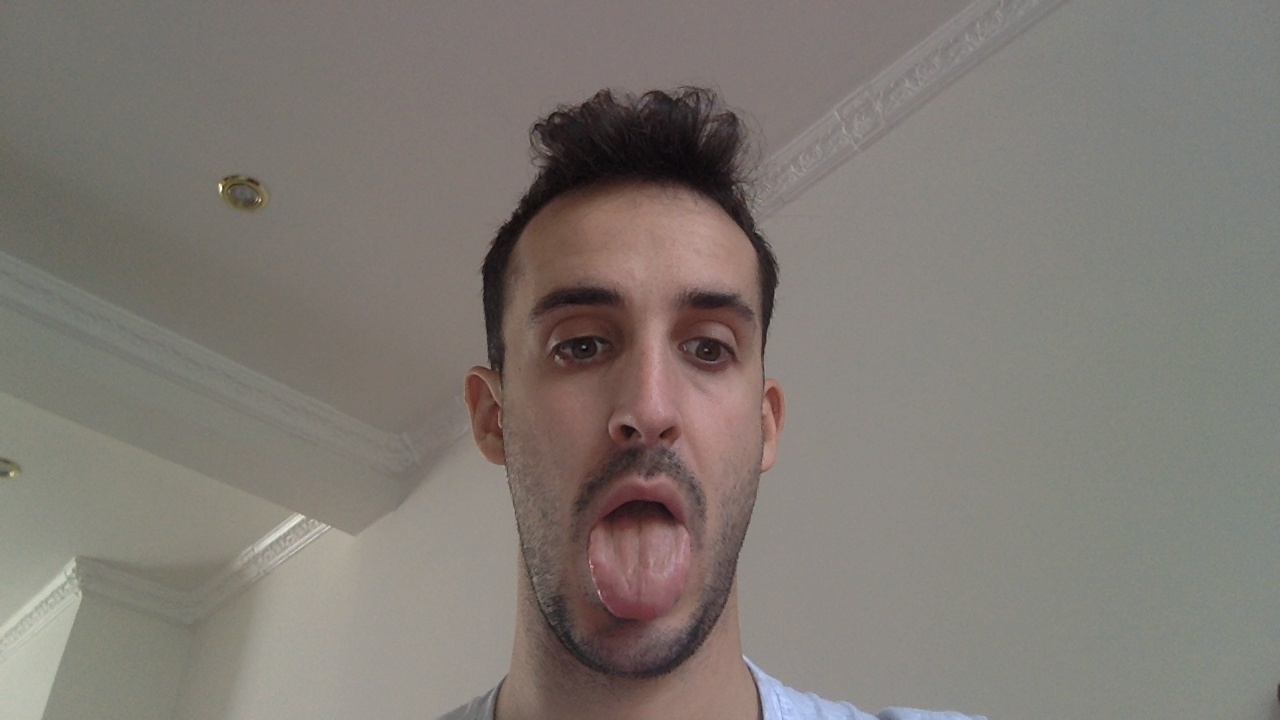tongue: (577, 473, 699, 631)
